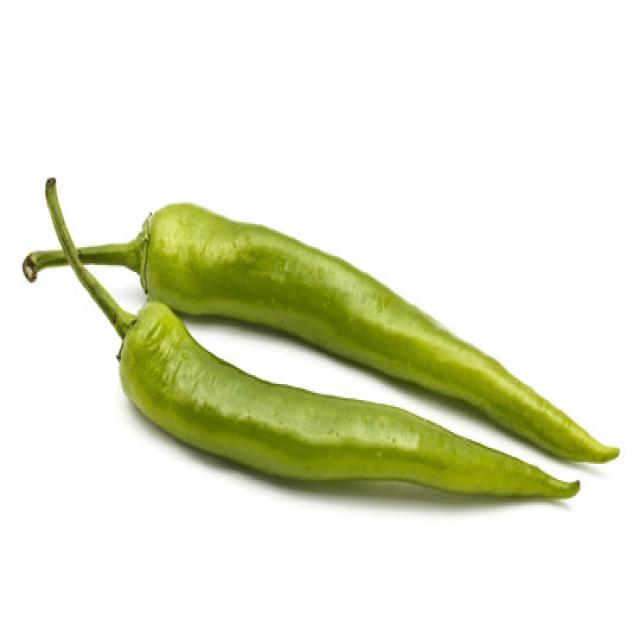Chilli: (39, 176, 620, 469)
